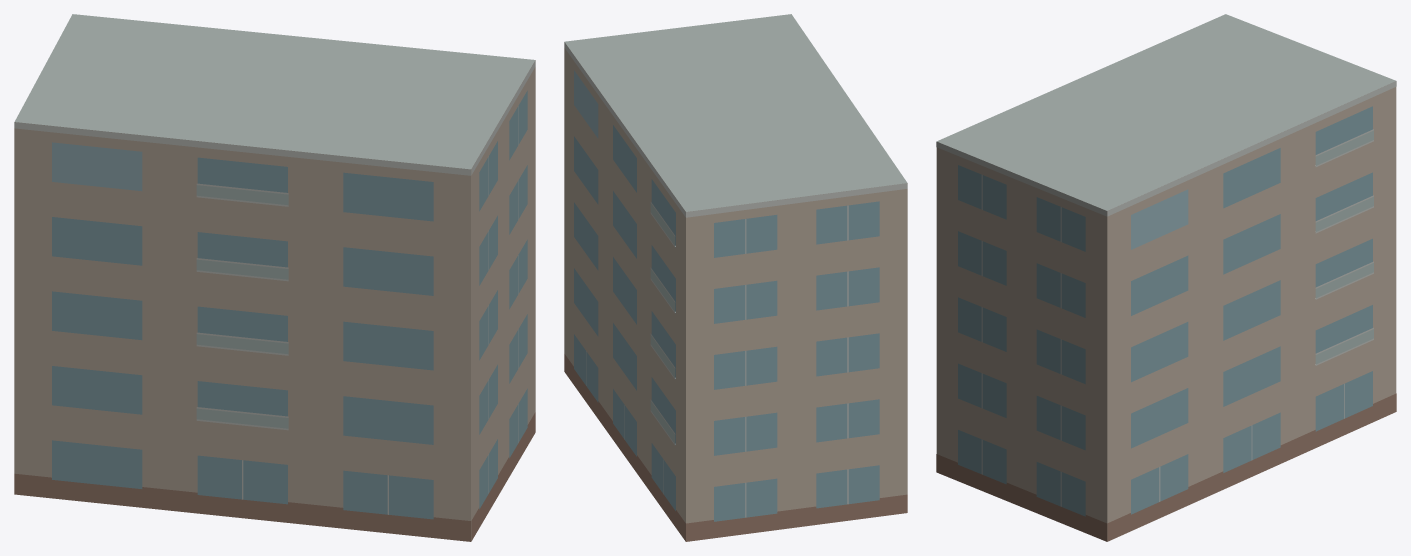
Rendered from survey-upis-32915064.glb.
3 views of the same model, side by side, from view 1: azimuth 30°, elevation 25°; view 2: azimuth 150°, elevation 25°; view 3: azimuth 270°, elevation 25° (orthographic). The views are drawn at different scales.
Visible parts, largest first — view 1: survey-upis-32915064.tmp; view 2: survey-upis-32915064.tmp; view 3: survey-upis-32915064.tmp.
Boxes of the visible parts, <box> form: survey-upis-32915064.tmp: <box>14,14,535,541</box>; survey-upis-32915064.tmp: <box>564,14,907,541</box>; survey-upis-32915064.tmp: <box>936,14,1396,541</box>.
Bounding box in the file's own units: 18.01 × 14.1 × 17.77.
